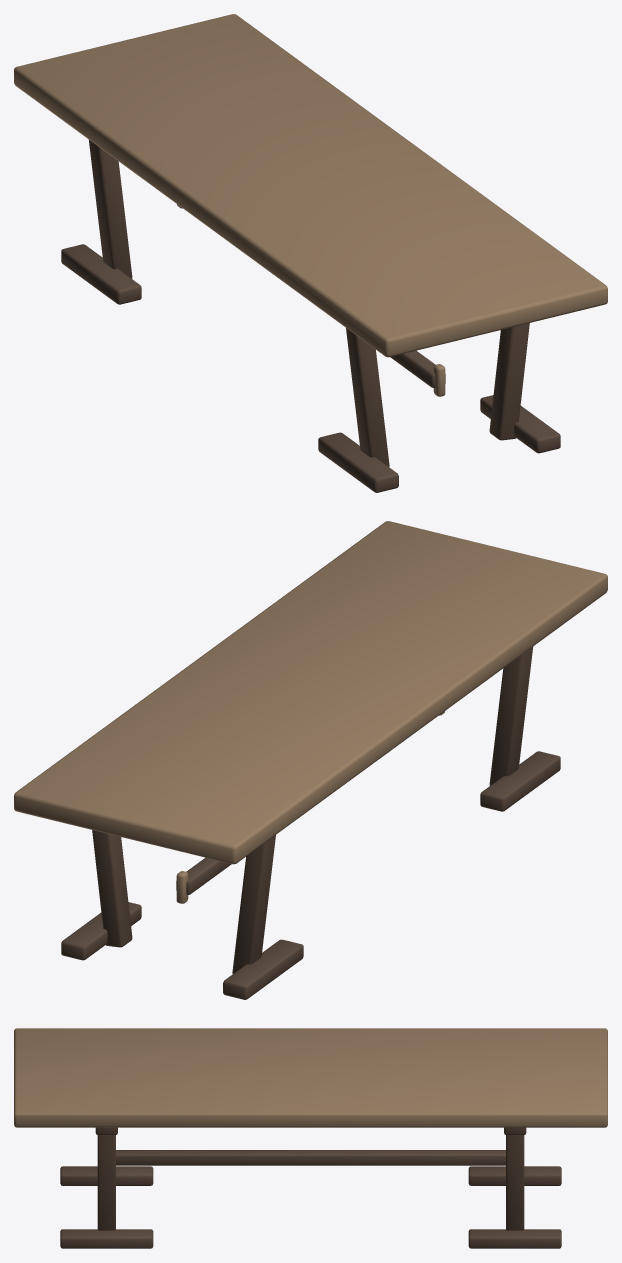
Rendered from council_table.glb.
The picture shows the model from 3 angles, top to bottom: view 1: azimuth 30°, elevation 25°; view 2: azimuth 150°, elevation 25°; view 3: azimuth 270°, elevation 25°; orthographic projection. The views are drawn at different scales.
Parts seen in each view (by area): view 1: top; view 2: top; view 3: top.
Boxes of the visible parts, bbox=[...] form: top: bbox=[14, 14, 607, 492]; top: bbox=[14, 521, 607, 999]; top: bbox=[14, 1028, 607, 1248].
Size of the model in its own units: 1.1 by 0.8611 by 3.2.
